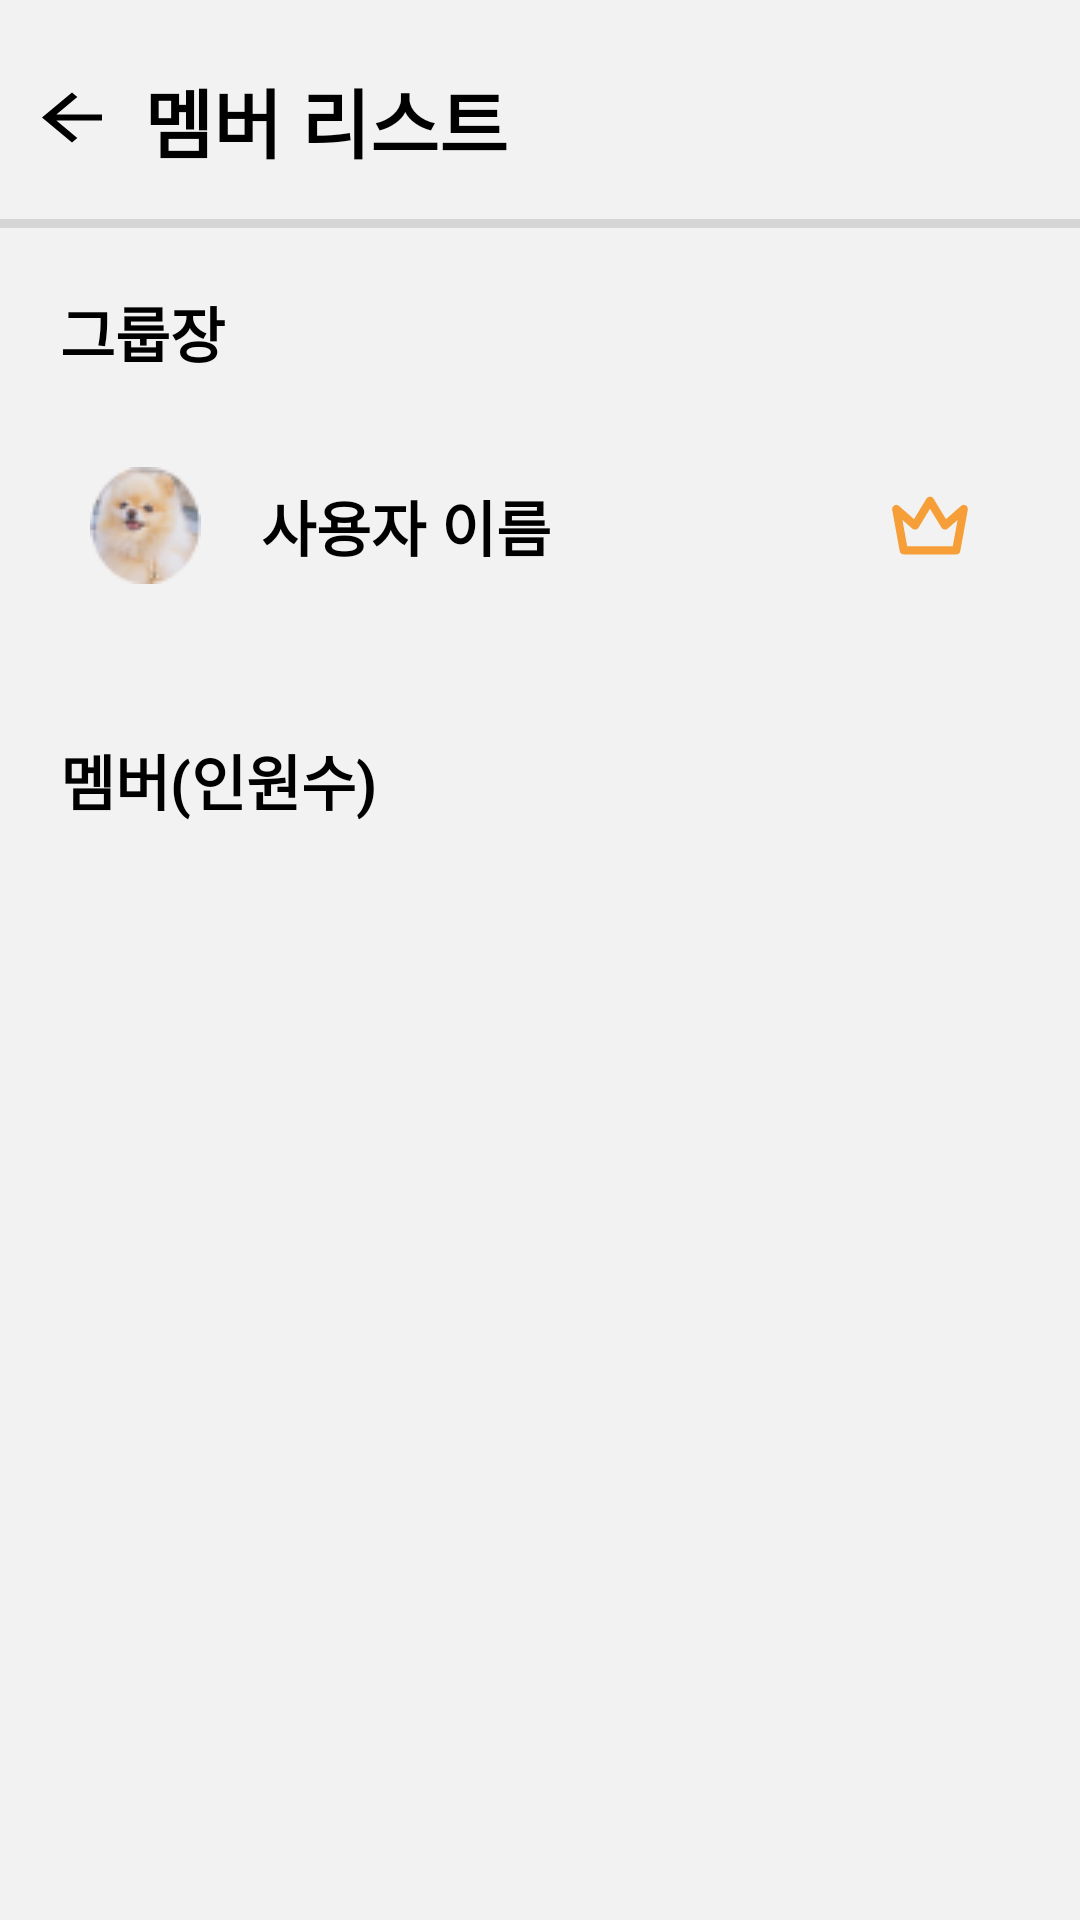

Named icons in this screenshot (1080px×1920px) and their centers, [x,y]:
arrow back: [72,117]
crown: [930,525]
profile: [145,525]
